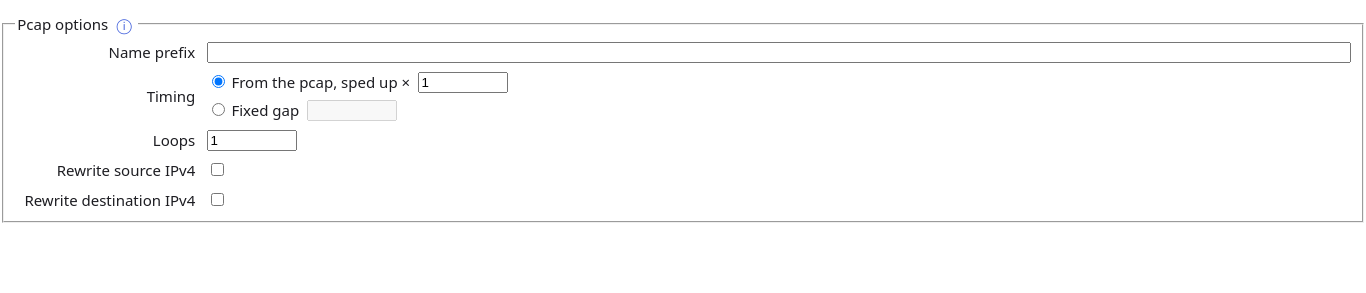
Scenario: PcapWizard › a rewrite count past 255.255.255.255 is an error
Check: the checkbox labelled "Rewrite destination IPv4" is not checked, box [210, 193, 224, 206]
Click the checkbox labelled "Rewrite source IPv4": x=217, y=170 [210, 163, 224, 176]
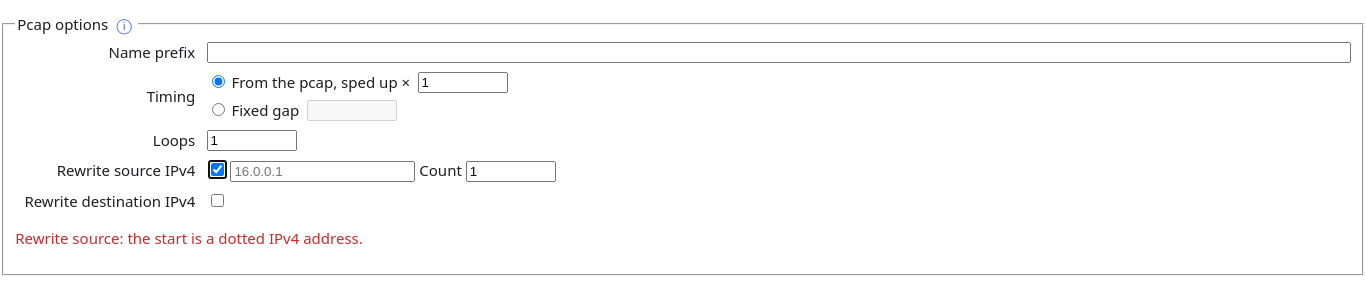
In the field named "Source start": x=323, y=172 [230, 161, 415, 182], type "255.255.255.250"
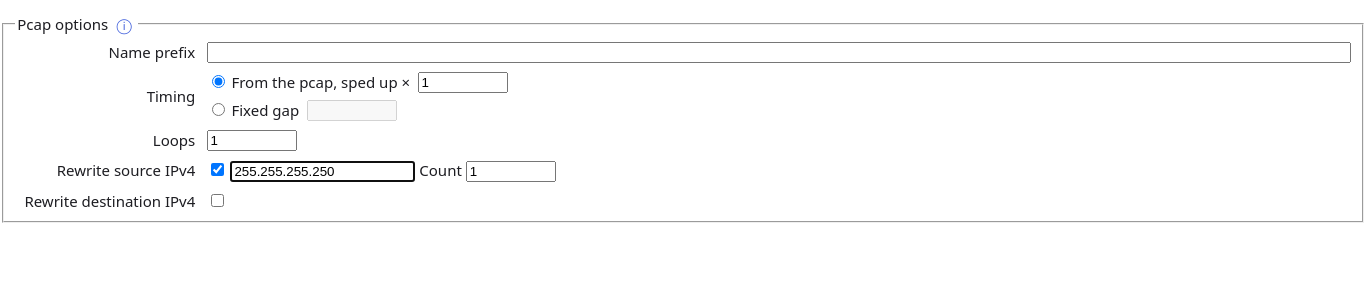
Replace the text in the number field named "Source count" with "6": x=511, y=172 [466, 161, 556, 182]
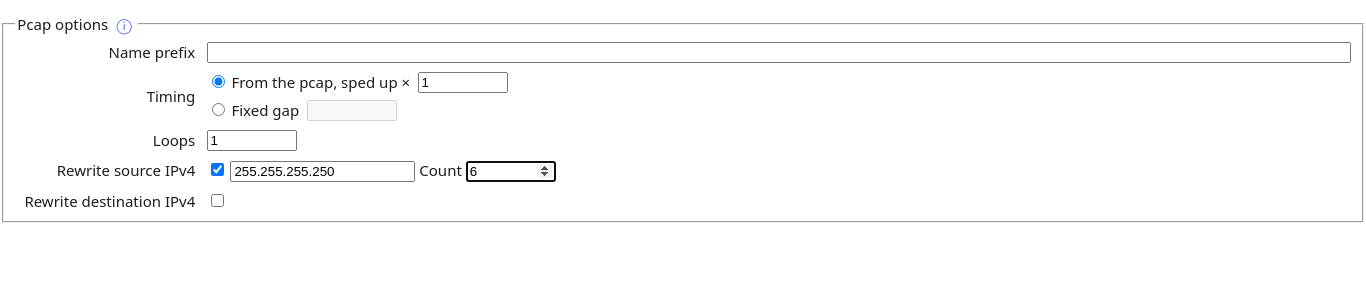
Replace the text in the number field named "Source count" with "7": x=511, y=172 [466, 161, 556, 182]
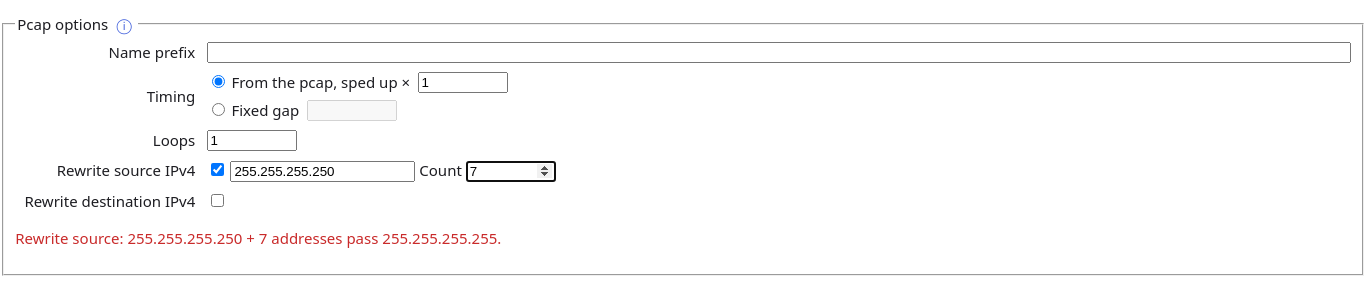
Check: the message shows "Rewrite source: 255.255.255.250 + 7 addresses pass 255.255.255.255", box [15, 228, 501, 248]
